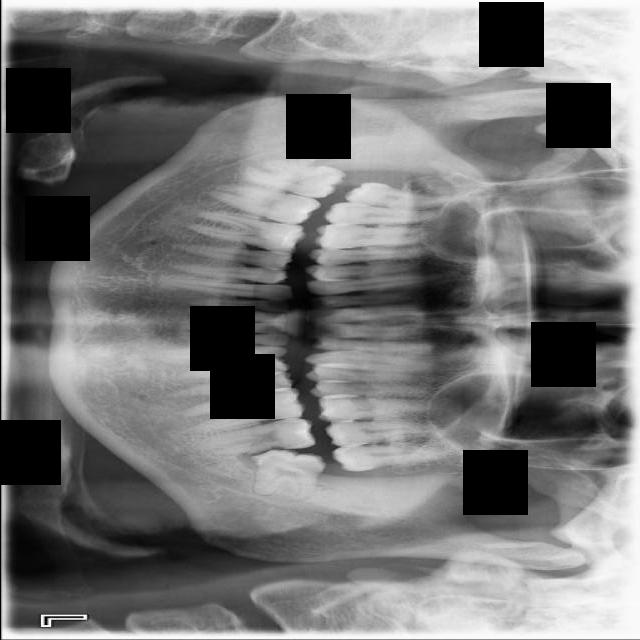3M ESPE Implant: (343, 180, 450, 210)
52: (270, 446, 281, 449)
73: (63, 571, 68, 574)
BioHorizons Implant: (323, 418, 450, 449)
BioLife Implant: (331, 445, 447, 472)
Biomet 3i Implant: (251, 443, 327, 507)
Blue Sky Bio Implant: (208, 415, 316, 457)
Caries: (322, 200, 437, 225)
Keystone Dental Implant: (238, 153, 347, 203)
